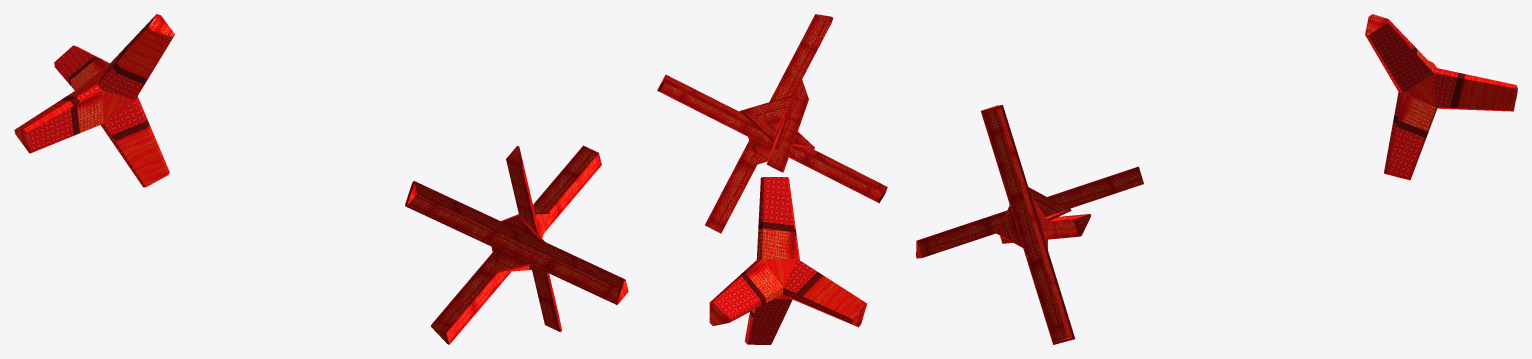
The picture shows the model from 3 angles, left to right: view 1: azimuth 30°, elevation 25°; view 2: azimuth 150°, elevation 25°; view 3: azimuth 270°, elevation 25°; orthographic projection. The views are drawn at different scales.
Visible parts, largest first — view 1: Barrier_Hedgehog_Czech_LOD0, Barrier_Hedgehog_LOD0; view 2: Barrier_Hedgehog_Czech_LOD0, Barrier_Hedgehog_LOD0; view 3: Barrier_Hedgehog_Czech_LOD0, Barrier_Hedgehog_LOD0.
Part boxes in pixels (x1=…): Barrier_Hedgehog_Czech_LOD0: x1=405, y1=145, x2=628, y2=344; Barrier_Hedgehog_LOD0: x1=14, y1=14, x2=174, y2=187; Barrier_Hedgehog_Czech_LOD0: x1=657, y1=14, x2=887, y2=233; Barrier_Hedgehog_LOD0: x1=709, y1=177, x2=867, y2=344; Barrier_Hedgehog_Czech_LOD0: x1=916, y1=105, x2=1143, y2=344; Barrier_Hedgehog_LOD0: x1=1365, y1=14, x2=1517, y2=180.
Size of what is drawn, in the model's own units: 0.5298 by 0.3055 by 0.7427.
1 material, 1 textured.
